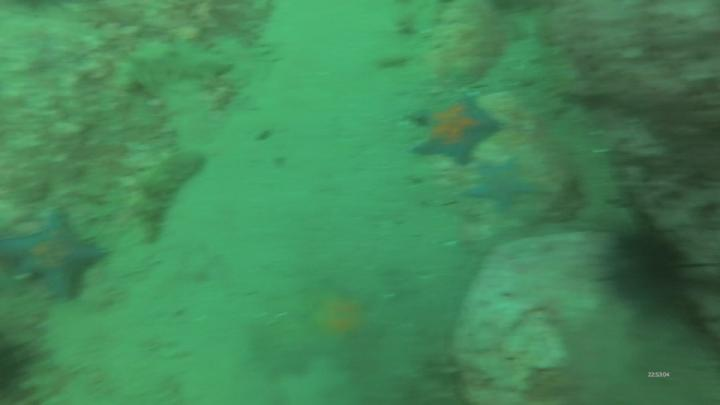echinus: (610, 233, 680, 299)
holothurian: (129, 153, 199, 241), (128, 49, 228, 85)
starfish: (2, 209, 104, 298), (409, 98, 503, 163), (311, 297, 375, 355), (467, 158, 530, 209)
